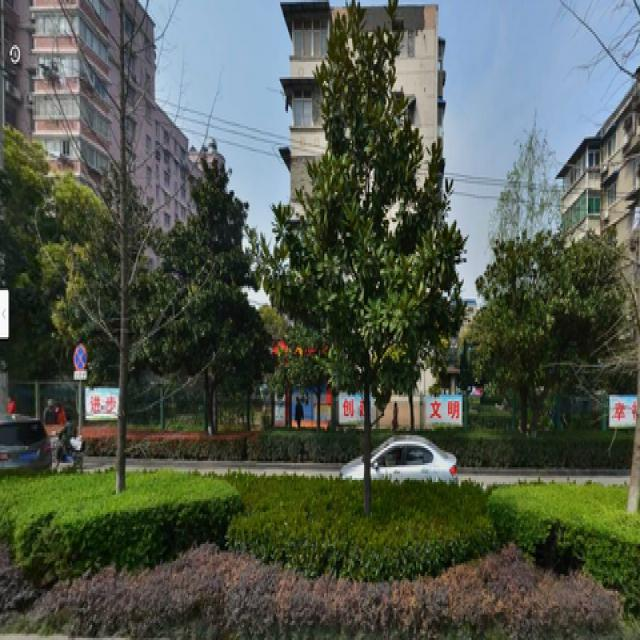magn: (299, 15, 449, 510)
